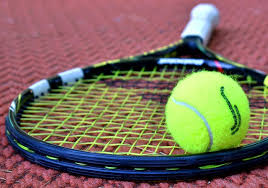tennis racket: (2, 4, 268, 182), (9, 2, 268, 166)
